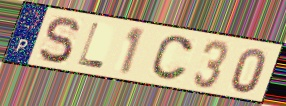0: (227, 45, 268, 95)
1: (120, 25, 146, 77)
3: (192, 37, 230, 90)
C: (148, 33, 196, 82)
L: (76, 21, 107, 70)
S: (37, 15, 81, 65)
